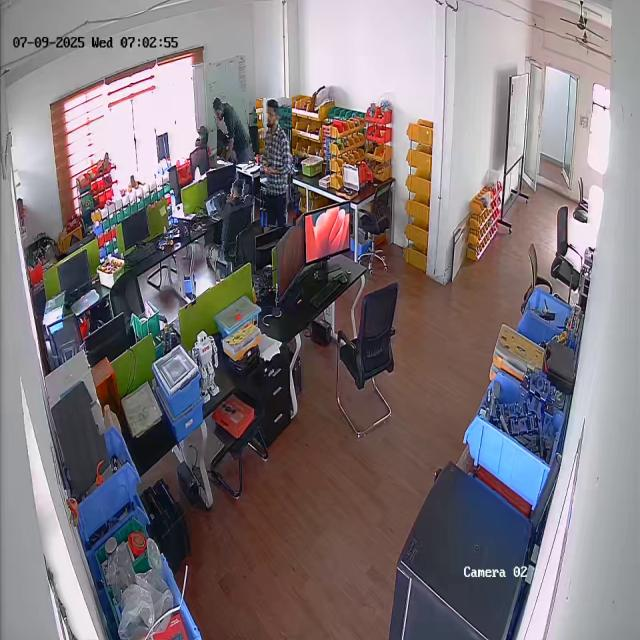person: (258, 98, 294, 227), (206, 176, 253, 263), (214, 91, 253, 165)
